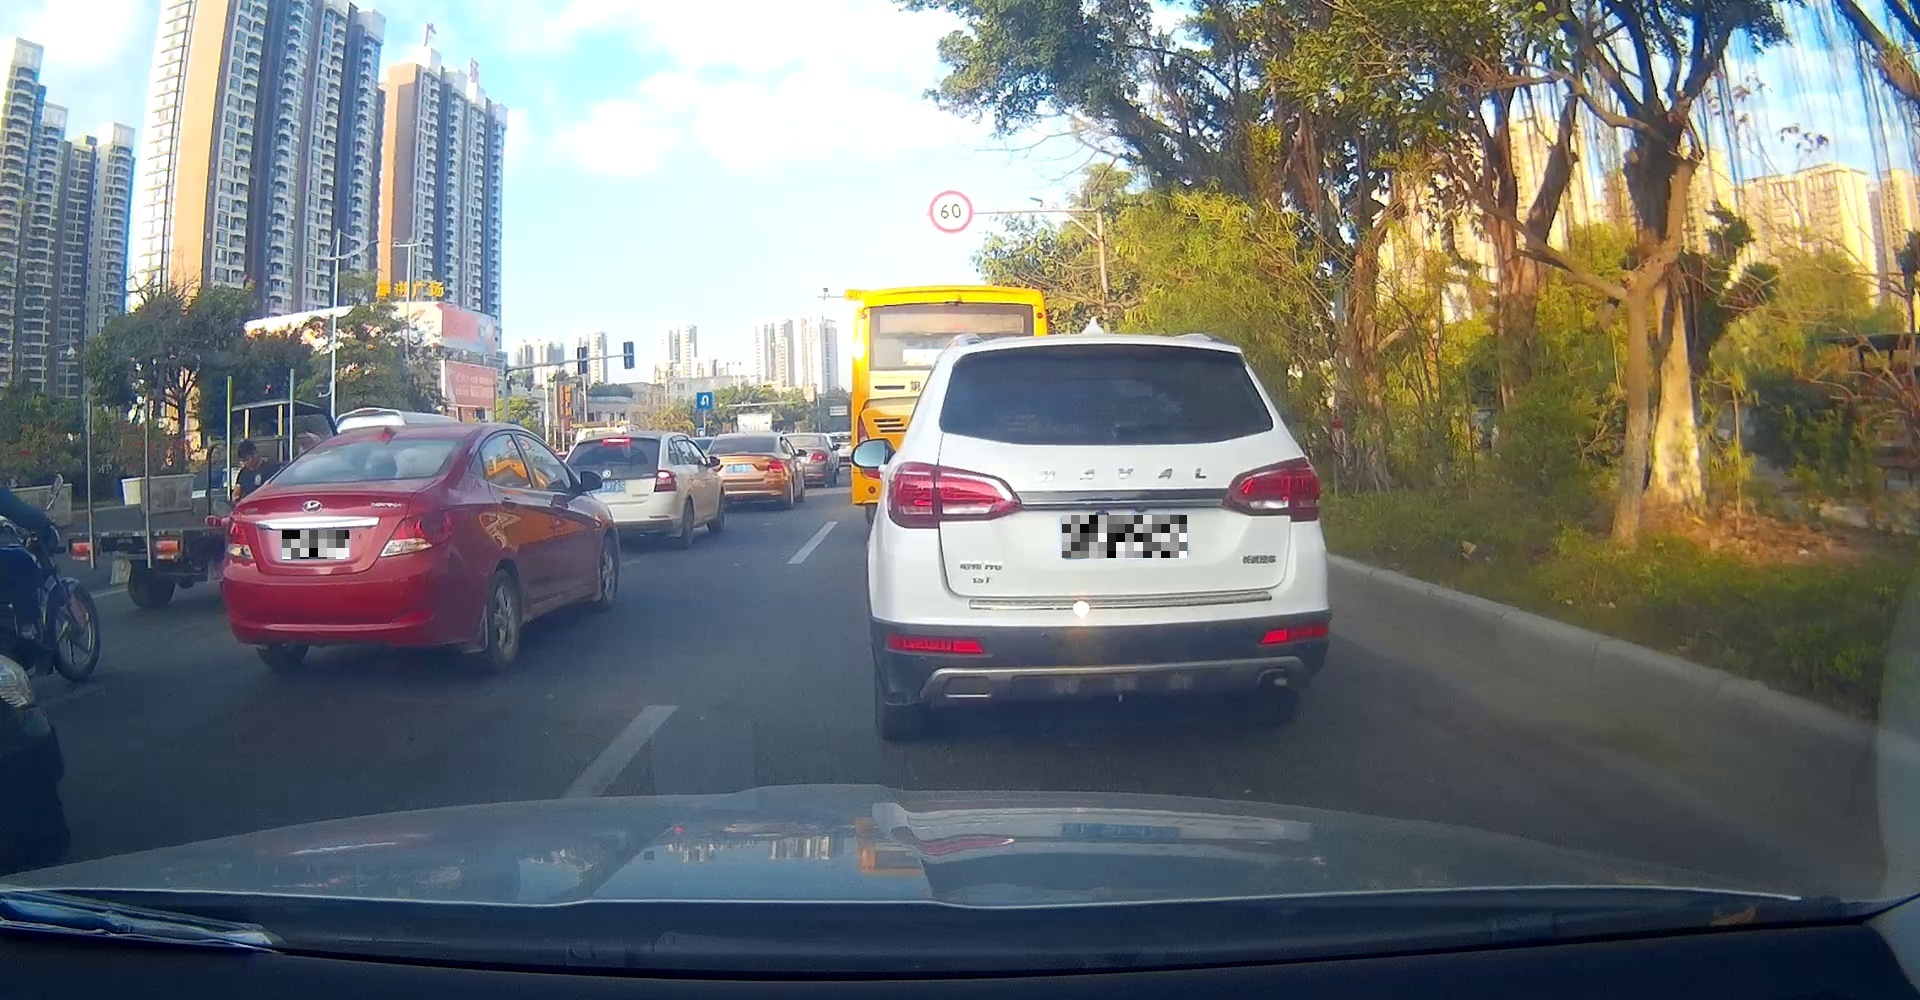L_light: (888, 462, 1023, 530), (225, 520, 257, 563)
R_light: (1222, 456, 1322, 522), (378, 509, 471, 557)
T_light: (1084, 345, 1121, 357), (372, 440, 397, 445)
day-no: (867, 334, 1331, 745), (222, 425, 472, 671)
plate_1: (282, 530, 349, 558)
plate_2: (1062, 515, 1187, 558)
